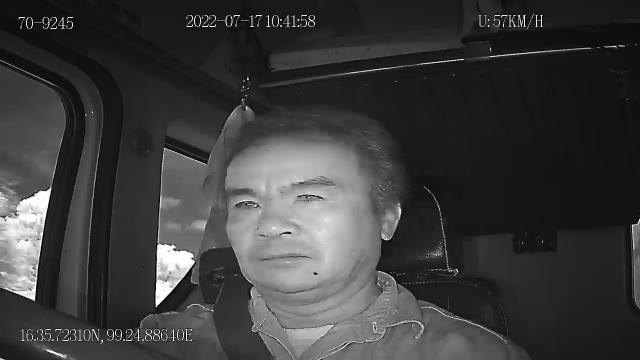SafeDriving: (287, 182, 336, 209), (227, 190, 267, 216)
Seatbelt: (212, 276, 274, 360)
